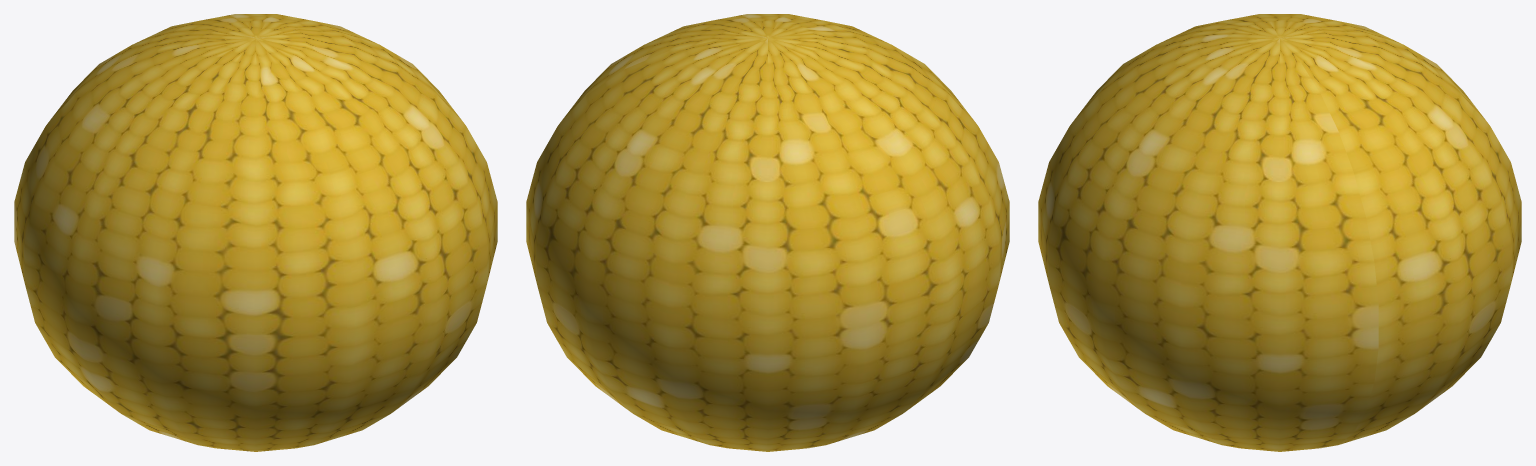
File: misir2.fbx
3 views of the same model, side by side, from view 1: azimuth 30°, elevation 25°; view 2: azimuth 150°, elevation 25°; view 3: azimuth 270°, elevation 25° (orthographic).
Parts seen in each view (by area): view 1: Head; view 2: Head; view 3: Head.
Part boxes in pixels (x1=…): Head: x1=14, y1=14, x2=497, y2=451; Head: x1=526, y1=14, x2=1009, y2=451; Head: x1=1038, y1=14, x2=1521, y2=451.
Bounding box in the file's own units: 9.84 × 8.78 × 9.89.
